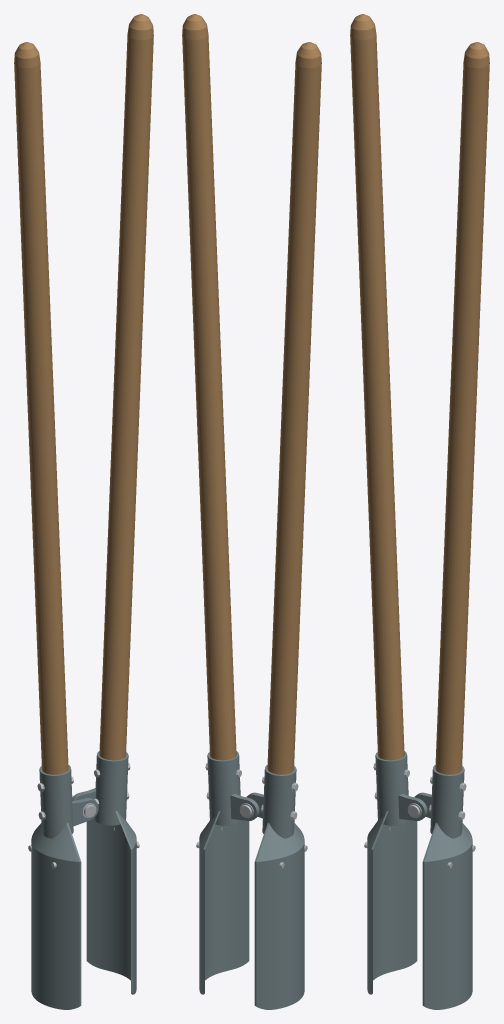
3 views of the same model, side by side, from view 1: azimuth 30°, elevation 25°; view 2: azimuth 150°, elevation 25°; view 3: azimuth 330°, elevation 25° (orthographic).
Visible parts, largest first — view 1: Right_round_wooden_handle, Left_round_wooden_handle, Left_concave_scoop_and_shoulder, Right_concave_scoop_and_shoulder, Right_hollow_steel_socket, Left_hollow_steel_socket, Left_seated_hinge_cheek; view 2: Right_round_wooden_handle, Left_round_wooden_handle, Left_concave_scoop_and_shoulder, Right_concave_scoop_and_shoulder, Left_hollow_steel_socket, Right_hollow_steel_socket, Right_seated_hinge_cheek; view 3: Left_round_wooden_handle, Right_round_wooden_handle, Right_concave_scoop_and_shoulder, Left_concave_scoop_and_shoulder, Right_hollow_steel_socket, Left_hollow_steel_socket, Left_seated_hinge_cheek.
Boxes of the visible parts, x1,y1,x2,y2 form: Right_round_wooden_handle: [99, 14, 153, 760]; Left_round_wooden_handle: [14, 42, 68, 774]; Left_concave_scoop_and_shoulder: [31, 823, 81, 1009]; Right_concave_scoop_and_shoulder: [86, 811, 136, 994]; Right_hollow_steel_socket: [94, 751, 128, 825]; Left_hollow_steel_socket: [39, 765, 73, 838]; Left_seated_hinge_cheek: [72, 798, 98, 826]; Right_round_wooden_handle: [182, 14, 236, 760]; Left_round_wooden_handle: [267, 42, 321, 774]; Left_concave_scoop_and_shoulder: [254, 823, 304, 1009]; Right_concave_scoop_and_shoulder: [199, 811, 249, 994]; Left_hollow_steel_socket: [262, 765, 296, 838]; Right_hollow_steel_socket: [207, 751, 240, 825]; Right_seated_hinge_cheek: [230, 794, 259, 820]; Left_round_wooden_handle: [350, 14, 404, 760]; Right_round_wooden_handle: [435, 42, 489, 774]; Right_concave_scoop_and_shoulder: [422, 823, 472, 1009]; Left_concave_scoop_and_shoulder: [367, 811, 417, 994]; Right_hollow_steel_socket: [430, 765, 464, 838]; Left_hollow_steel_socket: [375, 751, 408, 825]; Left_seated_hinge_cheek: [398, 794, 427, 820].
Bounding box in the file's own units: 0.218 × 1.47 × 0.123.
